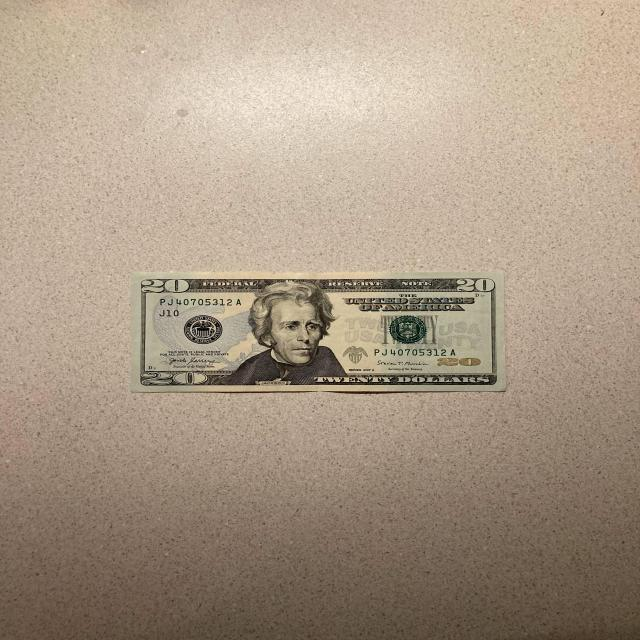twenty: (131, 272, 509, 393)
